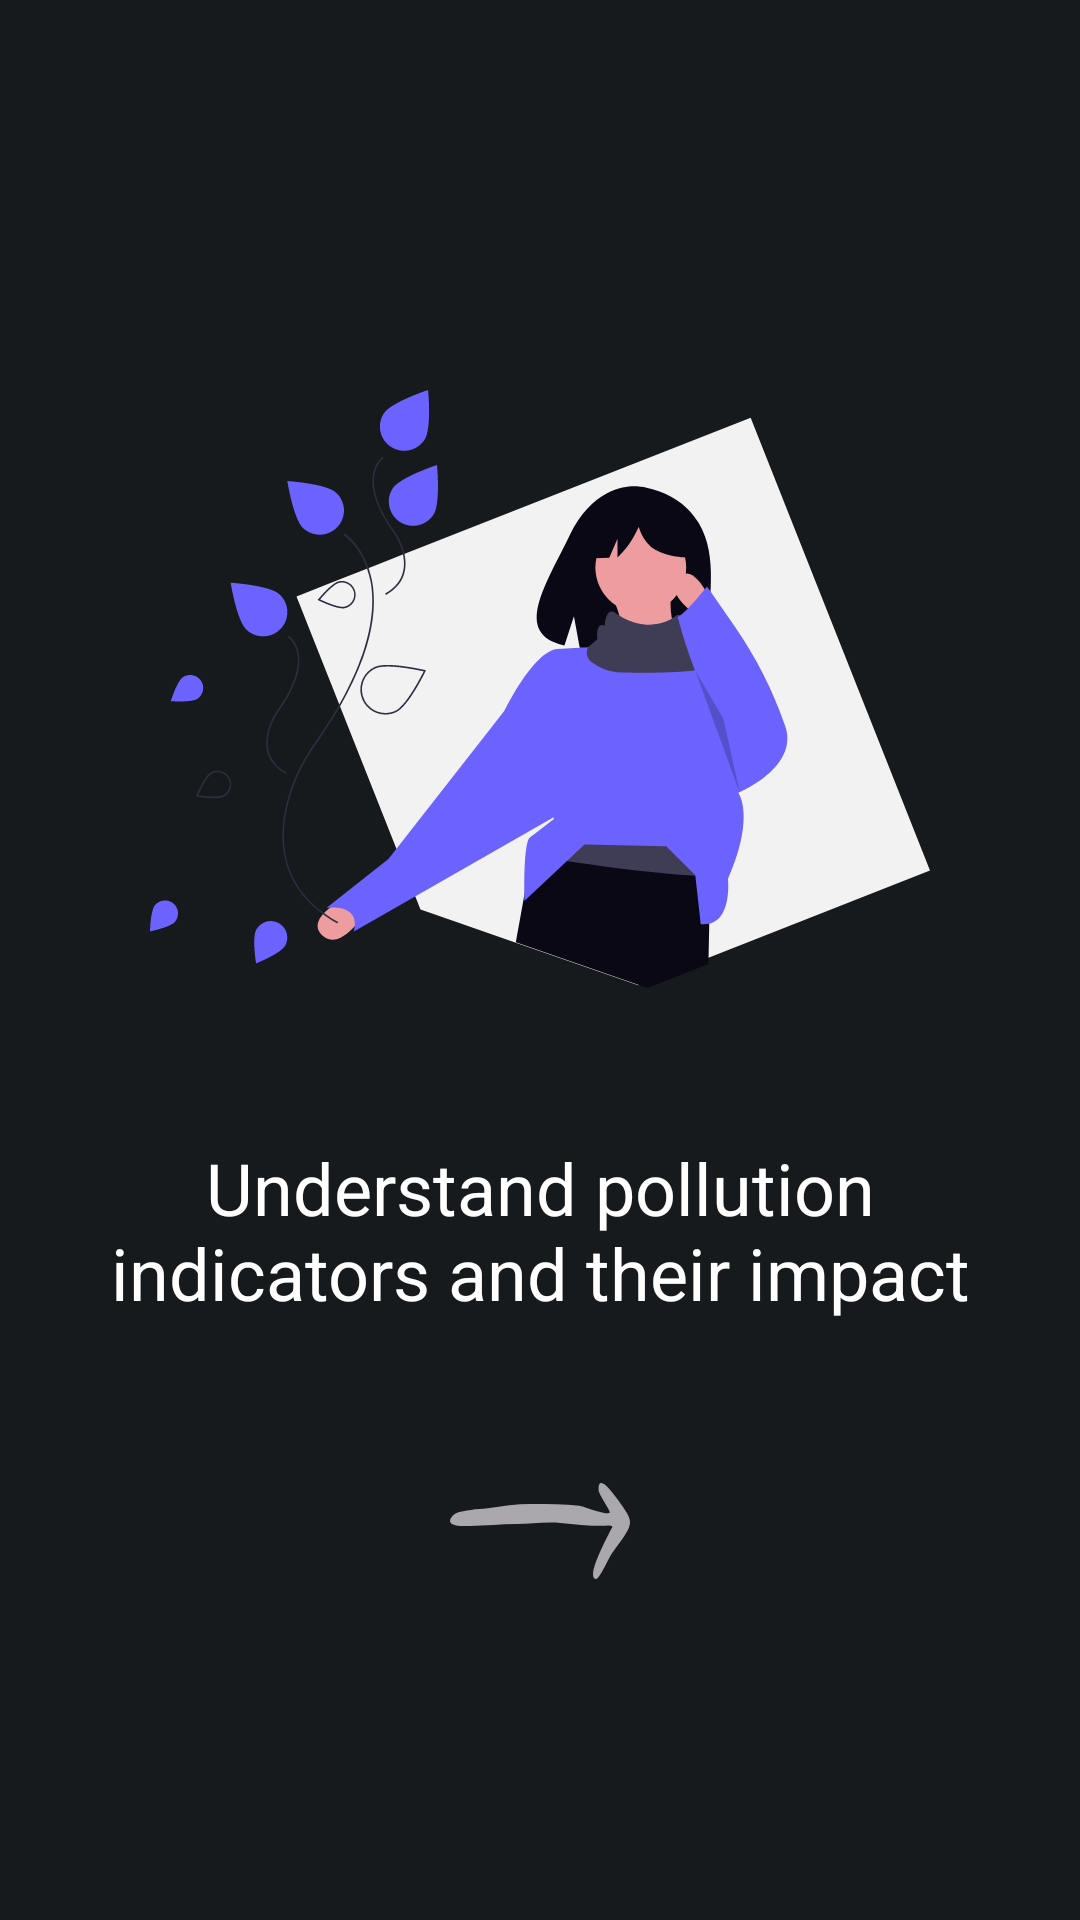

Named icons in this screenshot (1080px x 1920px) and their bounding boxes, (x1, y1, x2, y2):
arrow: (450, 1483, 630, 1579)
